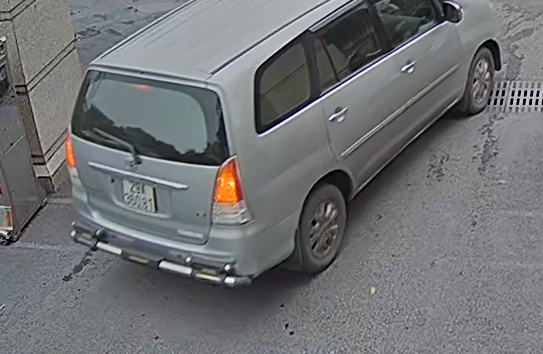vehicle plate: (118, 170, 158, 216)
